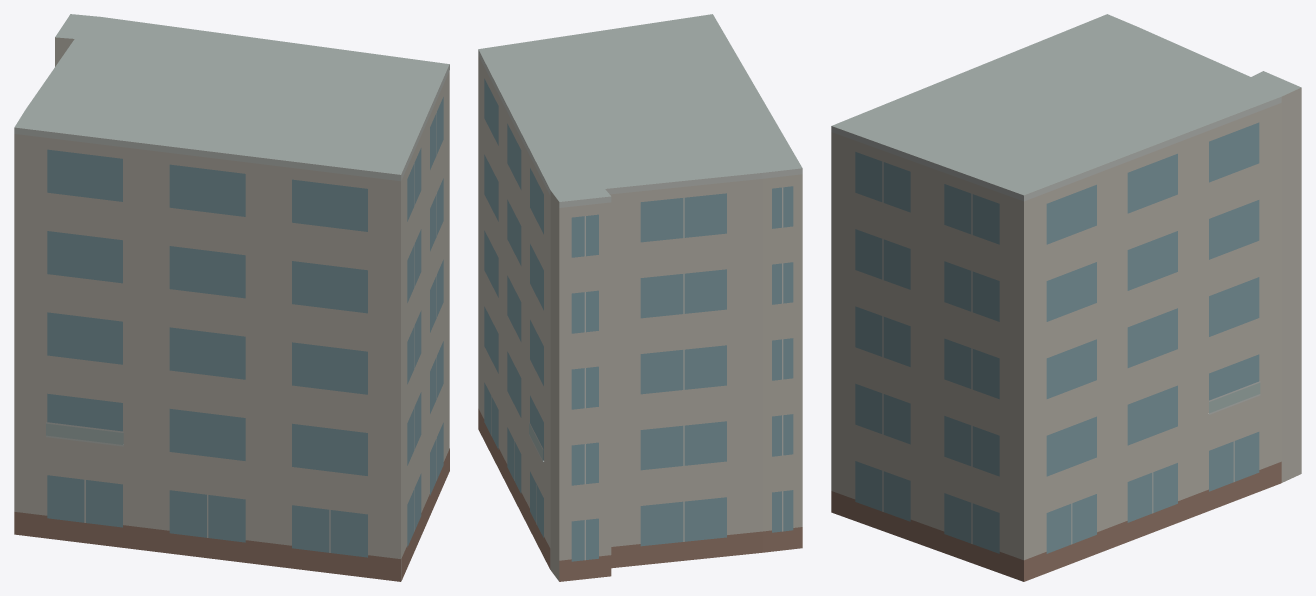
File: survey-upis-32999987.glb
3 renders of one model, left to right at view 1: azimuth 30°, elevation 25°; view 2: azimuth 150°, elevation 25°; view 3: azimuth 270°, elevation 25°, orthographic. The views are drawn at different scales.
Parts seen in each view (by area): view 1: survey-upis-32999987.tmp; view 2: survey-upis-32999987.tmp; view 3: survey-upis-32999987.tmp.
Part boxes in pixels (x1=…): survey-upis-32999987.tmp: x1=14, y1=14, x2=449, y2=581; survey-upis-32999987.tmp: x1=478, y1=14, x2=802, y2=581; survey-upis-32999987.tmp: x1=831, y1=14, x2=1301, y2=581.
Bounding box in the file's own units: 15.69 × 15.58 × 17.19.
